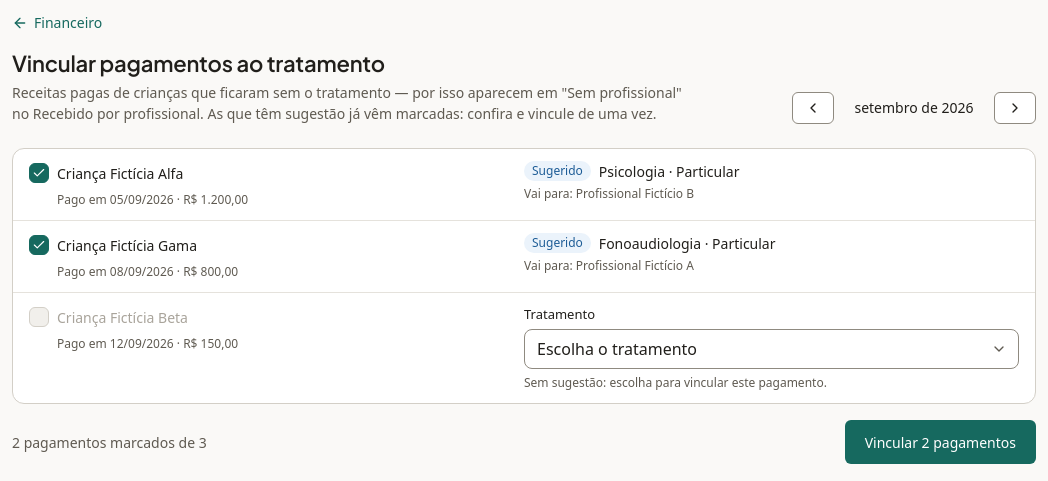
Vincular pagamentos — a marcação › deve pôr no lote a linha sem sugestão quando o tratamento dela é escolhido
Select "Psicologia · Profissional Fictício B · Particular · 1/10 sessões" in the dropdown labelled "Tratamento" at point(772, 349), box [524,329,1019,369]
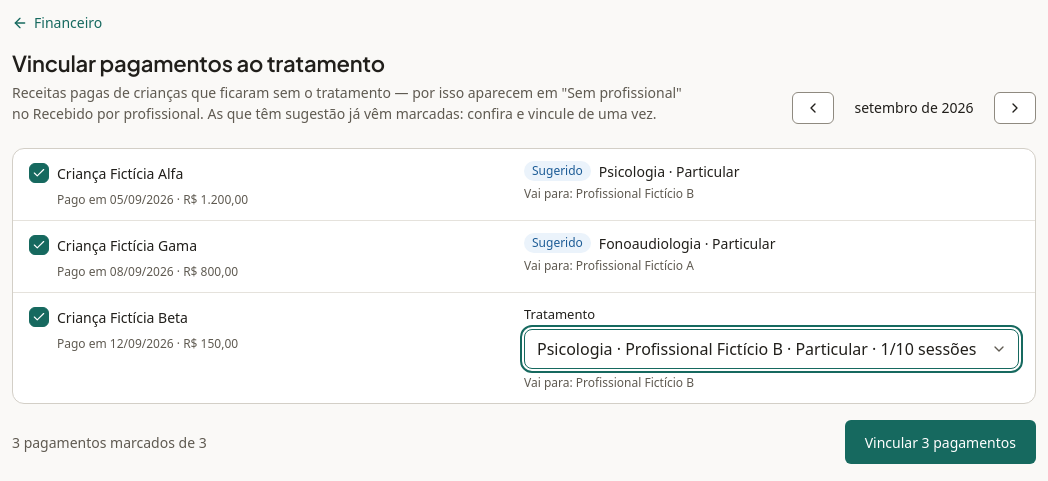
Expected: the checkbox named "Criança Fictícia Beta" next to "Criança Fictícia Beta" is checked, [29,308,49,328]
Expected: the button "Vincular 3 pagamentos" is shown, [845,420,1036,464]
